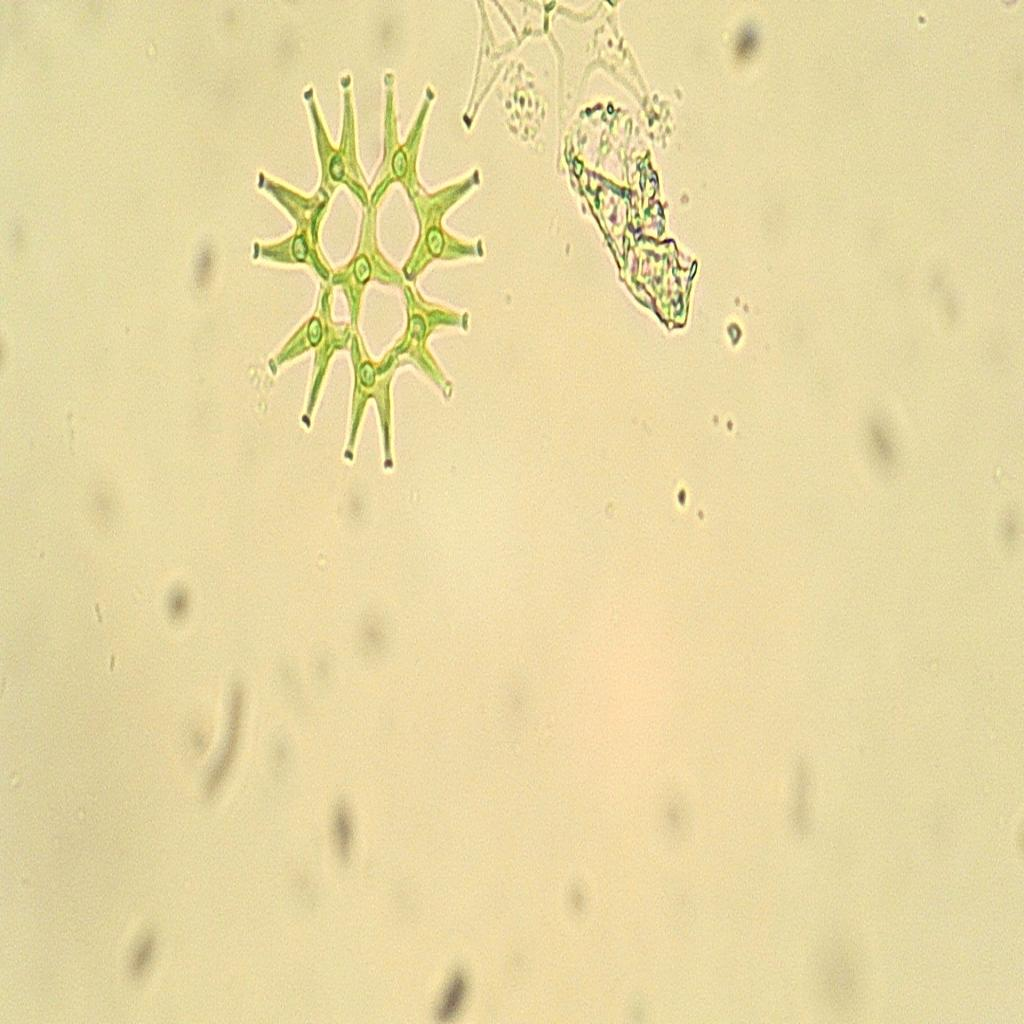Pediastrum_75T: (240, 42, 500, 503)
